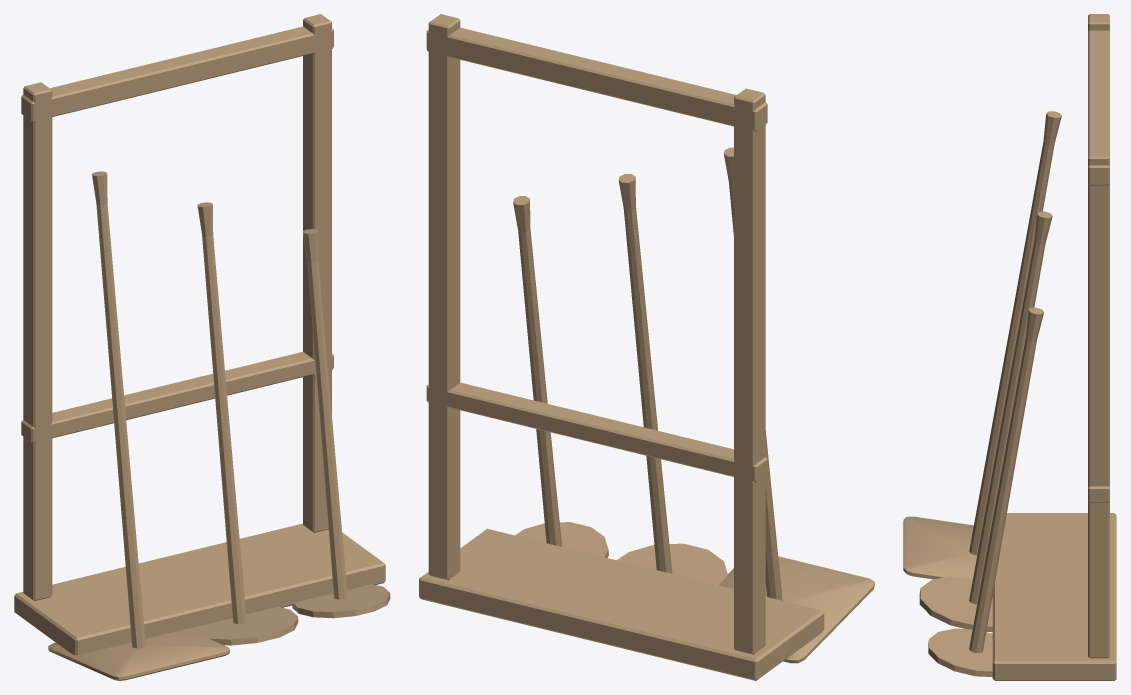
The model's file is bakery-and-cafe-baker-peel-set-33008a1c__22199.glb.
3 renders of one model, left to right at view 1: azimuth 30°, elevation 25°; view 2: azimuth 150°, elevation 25°; view 3: azimuth 270°, elevation 25°, orthographic. The views are drawn at different scales.
Visible parts, largest first — view 1: baker-peel-set; view 2: baker-peel-set; view 3: baker-peel-set.
Boxes of the visible parts, box(x1,y1,x2,y2) form: baker-peel-set: box(14, 14, 390, 680); baker-peel-set: box(419, 14, 874, 680); baker-peel-set: box(903, 14, 1116, 680).
Size of the model in its own units: 0.8099 by 1.33 by 0.4822.
